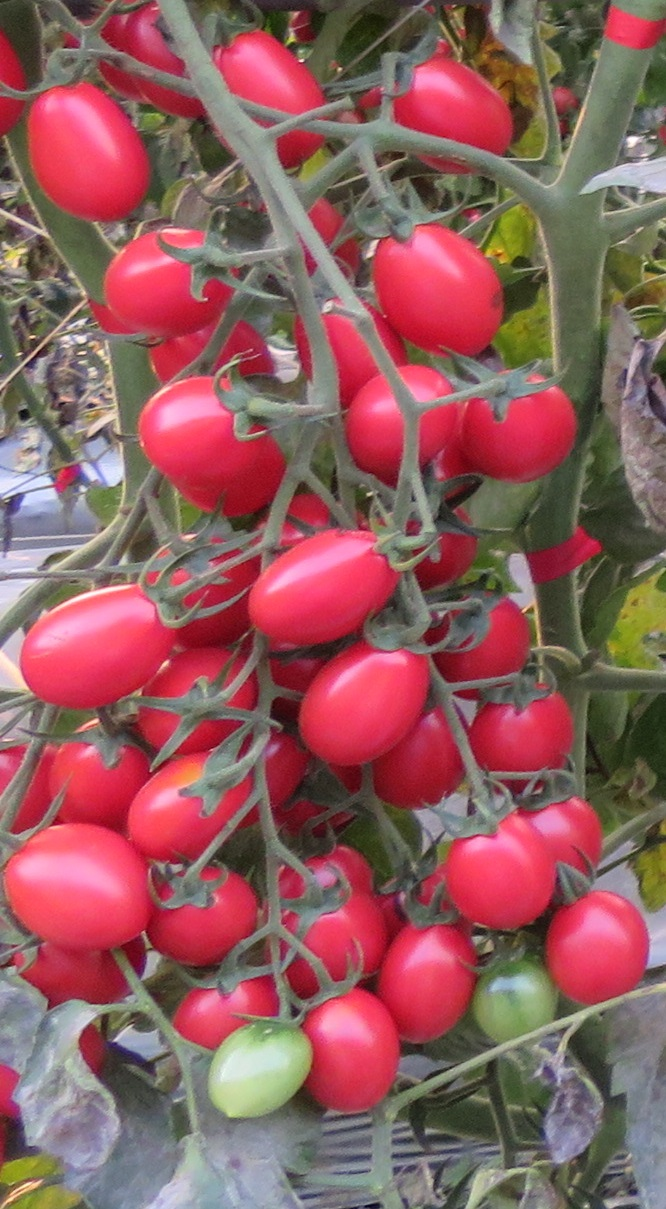green: (203, 1015, 317, 1119), (468, 960, 565, 1051)
red: (124, 739, 307, 866), (10, 583, 185, 709), (239, 530, 413, 654), (1, 814, 154, 955), (370, 225, 517, 361), (298, 629, 437, 770), (25, 81, 157, 223), (104, 221, 244, 338), (215, 29, 331, 163), (388, 61, 519, 173), (445, 805, 555, 936), (289, 994, 407, 1113), (458, 371, 585, 481), (137, 641, 260, 753), (134, 370, 257, 476), (338, 363, 455, 470), (547, 890, 649, 1010), (154, 865, 264, 970), (283, 892, 391, 998), (388, 914, 475, 1044), (472, 690, 577, 788), (374, 711, 467, 816), (50, 731, 148, 828), (19, 945, 148, 1009), (428, 600, 535, 674), (177, 977, 276, 1045)
